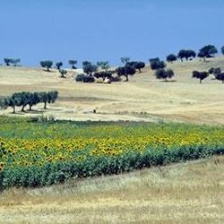neutral: (2, 2, 221, 222)
